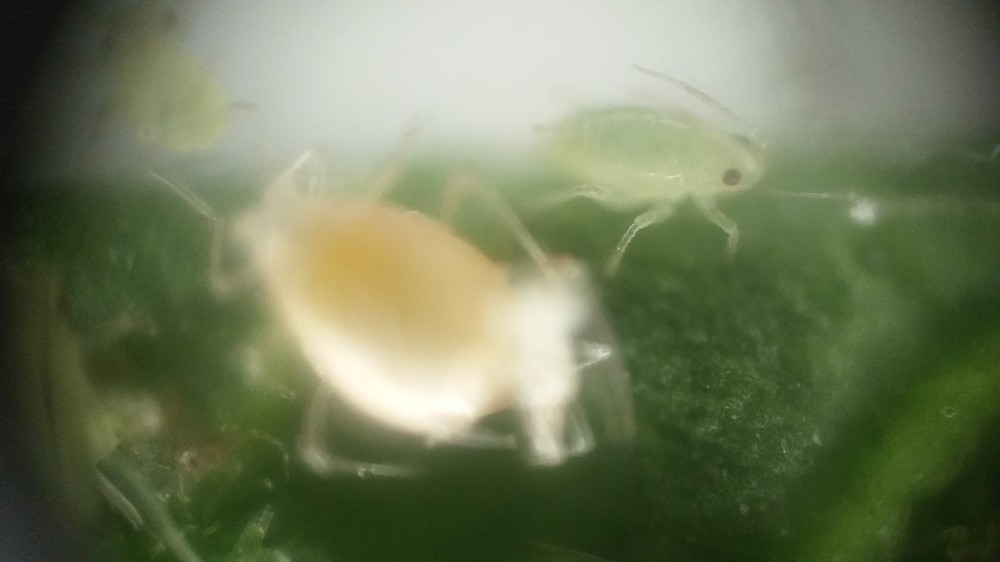Pulgon: (499, 62, 789, 265)
